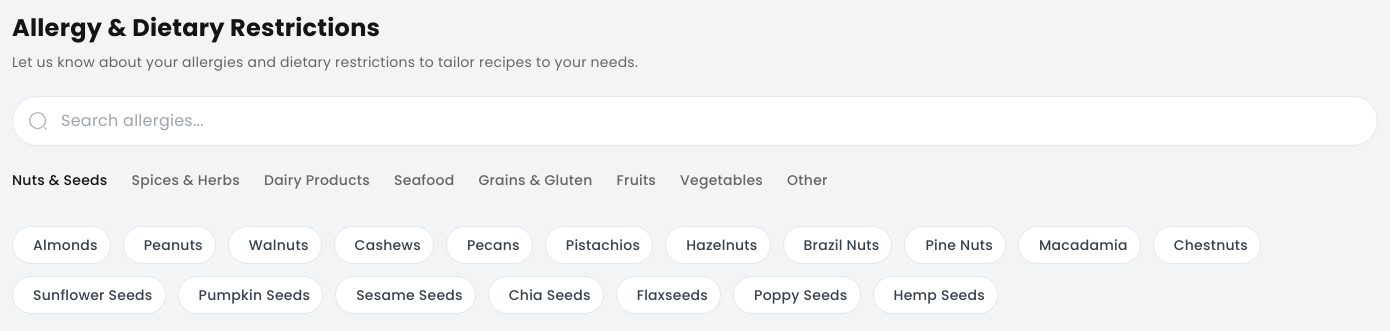
Scenario: AllergiesPage › Category Tabs › switches to Dairy Products when clicked
Click the button "Dairy Products" at (317, 186), box [264,170,370,202]
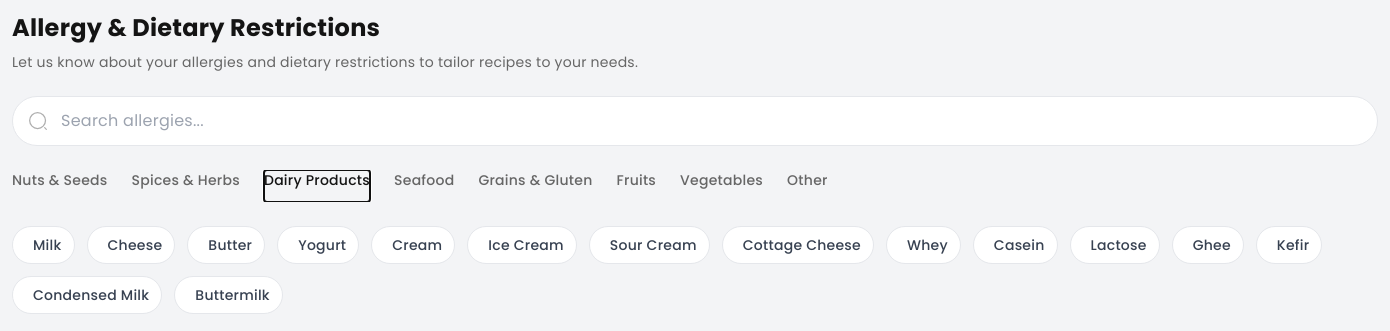
Result: the button "Milk" is shown at [12,226,74,264]
Result: the button "Cheese" is shown at [86,226,175,264]
